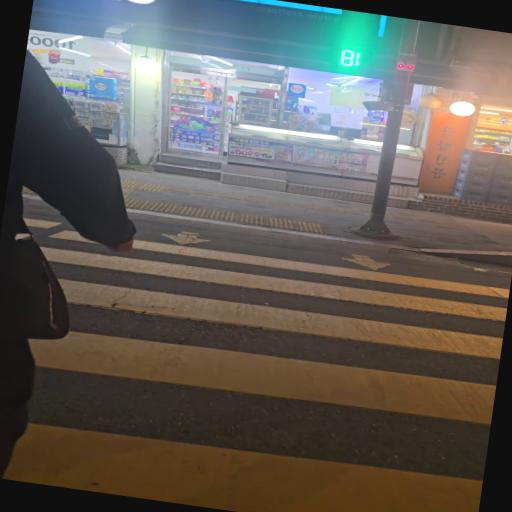yellow-crosswalk: (0, 194, 509, 512)
